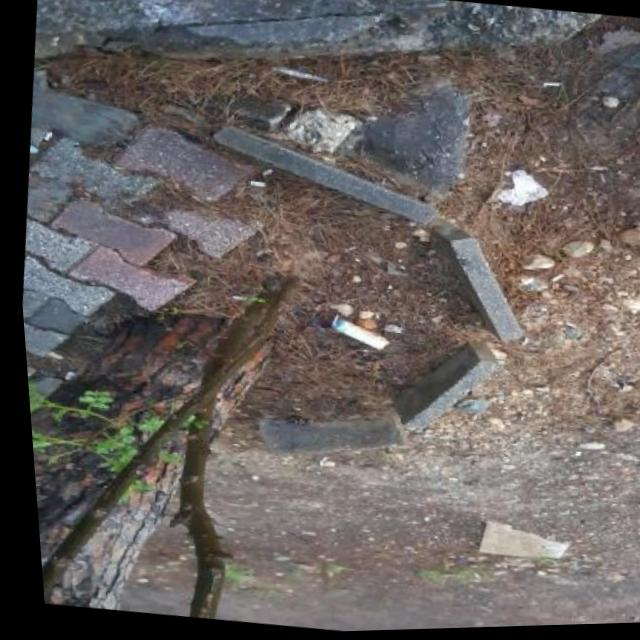cardboard: (301, 295, 340, 357)
